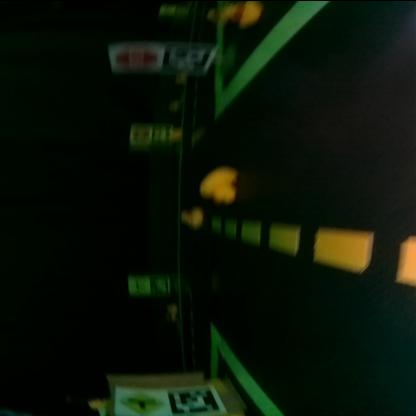Duckie: (199, 167, 235, 199), (223, 1, 256, 25), (181, 206, 203, 226)
Intersection sign: (117, 387, 163, 415), (127, 276, 149, 290)
QR code: (166, 43, 212, 71), (170, 387, 218, 413)
Stop sign: (112, 44, 158, 67), (131, 124, 149, 141)
